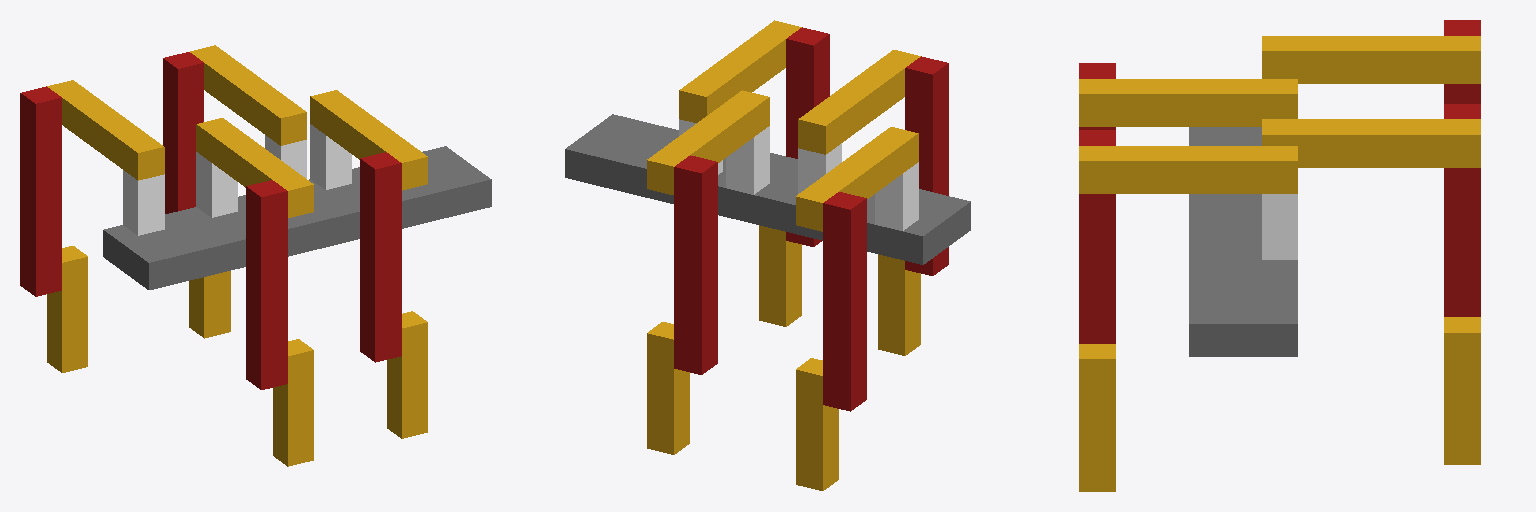
robot.urdf — v0:
<?xml version="1.0" encoding="utf-8"?>
<!-- =================================================================================== -->
<!-- |    This document was autogenerated by xacro from ../robots/v0variants/xacros/v0_4l_20.xacro | -->
<!-- |    EDITING THIS FILE BY HAND IS NOT RECOMMENDED                                 | -->
<!-- =================================================================================== -->
<robot name="v0">
  <material name="grey">
    <color rgba="0.5 0.5 0.5 1"/>
  </material>
  <material name="white">
    <color rgba="1 1 1 1"/>
  </material>
  <material name="yellow">
    <color rgba="0.91 0.7 0.14 1"/>
  </material>
  <material name="red">
    <color rgba="0.71 0.14 0.14 1"/>
  </material>
  <link name="body">
    <visual>
      <geometry>
        <box size="1.3 0.3 0.1"/>
      </geometry>
      <material name="grey"/>
      <origin rpy="0 0 0" xyz="0 0 0.7"/>
    </visual>
    <collision>
      <geometry>
        <box size="1.3 0.3 0.1"/>
      </geometry>
      <origin rpy="0 0 0" xyz="0 0 0.7"/>
    </collision>
    <inertial>
      <mass value="99.84"/>
      <inertia ixx="0.832" ixy="0.0" ixz="0.0" iyy="14.144" iyz="0.0" izz="14.8096"/>
    </inertial>
  </link>
  <link name="l1_segment_1">
    <visual>
      <geometry>
        <box size="0.1 0.1 0.2"/>
      </geometry>
      <material name="white"/>
      <origin rpy="0 0 0" xyz="0 0 0.1"/>
    </visual>
    <collision>
      <geometry>
        <box size="0.1 0.1 0.2"/>
      </geometry>
      <origin rpy="0 0 0" xyz="0 0 0.1"/>
    </collision>
    <inertial>
      <mass value="5.12"/>
      <inertia ixx="0.0213333333333" ixy="0.0" ixz="0.0" iyy="0.0213333333333" iyz="0.0" izz="0.00853333333333"/>
    </inertial>
  </link>
  <joint name="l1_base_to_joint_1" type="fixed">
    <parent link="body"/>
    <child link="l1_segment_1"/>
    <origin rpy="0 0 0" xyz="-0.5251355048699647 0.1 0.75"/>
  </joint>
  <link name="l1_segment_2_HIP">
    <visual>
      <geometry>
        <box size="0.1 0.6 0.1"/>
      </geometry>
      <material name="yellow"/>
      <origin rpy="0 0 0" xyz="0 0.25 0"/>
    </visual>
    <collision>
      <geometry>
        <box size="0.1 0.6 0.1"/>
      </geometry>
      <origin rpy="0 0 0" xyz="0 0.25 0"/>
    </collision>
    <inertial>
      <mass value="15.36"/>
      <inertia ixx="0.4736" ixy="0.0" ixz="0.0" iyy="0.0256" iyz="0.0" izz="0.4736"/>
    </inertial>
  </link>
  <joint name="l1_joint_1_to_2" type="revolute">
    <parent link="l1_segment_1"/>
    <child link="l1_segment_2_HIP"/>
    <origin rpy="0 0 0" xyz="0 0 0.25"/>
    <axis xyz="0.0 0.0 1.0"/>
    <limit effort="2048" lower="-1.2" upper="1.2" velocity="20"/>
  </joint>
  <link name="l1_segment_3_THIGH">
    <visual>
      <geometry>
        <box size="0.1 0.1 0.7"/>
      </geometry>
      <material name="red"/>
      <origin rpy="0 0 0" xyz="0 0 -0.3"/>
    </visual>
    <collision>
      <geometry>
        <box size="0.1 0.1 0.7"/>
      </geometry>
      <origin rpy="0 0 0" xyz="0 0 -0.3"/>
    </collision>
    <inertial>
      <mass value="17.92"/>
      <inertia ixx="0.746666666667" ixy="0.0" ixz="0.0" iyy="0.746666666667" iyz="0.0" izz="0.0298666666667"/>
    </inertial>
  </link>
  <joint name="l1_joint_2_to_3" type="revolute">
    <parent link="l1_segment_2_HIP"/>
    <child link="l1_segment_3_THIGH"/>
    <origin rpy="0 0 0" xyz="-0.1 0.5 0"/>
    <axis xyz="1.0 0.0 0.0"/>
    <limit effort="2048" lower="-0.2" upper="0.75" velocity="20"/>
  </joint>
  <link name="l1_segment_4_FOOT">
    <visual>
      <geometry>
        <box size="0.1 0.1 0.4"/>
      </geometry>
      <material name="yellow"/>
      <origin rpy="0 0 0" xyz="0 0 -0.2"/>
    </visual>
    <collision>
      <geometry>
        <box size="0.1 0.1 0.4"/>
      </geometry>
      <origin rpy="0 0 0" xyz="0 0 -0.2"/>
    </collision>
    <inertial>
      <mass value="10.24"/>
      <inertia ixx="0.145066666667" ixy="0.0" ixz="0.0" iyy="0.145066666667" iyz="0.0" izz="0.0170666666667"/>
    </inertial>
  </link>
  <joint name="l1_joint_3_to_4_FOOT" type="revolute">
    <parent link="l1_segment_3_THIGH"/>
    <child link="l1_segment_4_FOOT"/>
    <origin rpy="0 0 0" xyz="0.1 0 -0.55"/>
    <axis xyz="1.0 0.0 0.0"/>
    <limit effort="2048" lower="-0.2" upper="0.5" velocity="20"/>
  </joint>
  <link name="r2_segment_1">
    <visual>
      <geometry>
        <box size="0.1 0.1 0.2"/>
      </geometry>
      <material name="white"/>
      <origin rpy="0 0 0" xyz="0 0 0.1"/>
    </visual>
    <collision>
      <geometry>
        <box size="0.1 0.1 0.2"/>
      </geometry>
      <origin rpy="0 0 0" xyz="0 0 0.1"/>
    </collision>
    <inertial>
      <mass value="5.12"/>
      <inertia ixx="0.0213333333333" ixy="0.0" ixz="0.0" iyy="0.0213333333333" iyz="0.0" izz="0.00853333333333"/>
    </inertial>
  </link>
  <joint name="r2_base_to_joint_1" type="fixed">
    <parent link="body"/>
    <child link="r2_segment_1"/>
    <origin rpy="0 0 0" xyz="-0.24617366687046574 0.1 0.75"/>
  </joint>
  <link name="r2_segment_2_HIP">
    <visual>
      <geometry>
        <box size="0.1 0.6 0.1"/>
      </geometry>
      <material name="yellow"/>
      <origin rpy="0 0 0" xyz="0 -0.25 0"/>
    </visual>
    <collision>
      <geometry>
        <box size="0.1 0.6 0.1"/>
      </geometry>
      <origin rpy="0 0 0" xyz="0 -0.25 0"/>
    </collision>
    <inertial>
      <mass value="15.36"/>
      <inertia ixx="0.4736" ixy="0.0" ixz="0.0" iyy="0.0256" iyz="0.0" izz="0.4736"/>
    </inertial>
  </link>
  <joint name="r2_joint_1_to_2" type="revolute">
    <parent link="r2_segment_1"/>
    <child link="r2_segment_2_HIP"/>
    <origin rpy="0 0 0" xyz="0 0 0.25"/>
    <axis xyz="0.0 0.0 1.0"/>
    <limit effort="2048" lower="-1.2" upper="1.2" velocity="20"/>
  </joint>
  <link name="r2_segment_3_THIGH">
    <visual>
      <geometry>
        <box size="0.1 0.1 0.7"/>
      </geometry>
      <material name="red"/>
      <origin rpy="0 0 0" xyz="0 0 -0.3"/>
    </visual>
    <collision>
      <geometry>
        <box size="0.1 0.1 0.7"/>
      </geometry>
      <origin rpy="0 0 0" xyz="0 0 -0.3"/>
    </collision>
    <inertial>
      <mass value="17.92"/>
      <inertia ixx="0.746666666667" ixy="0.0" ixz="0.0" iyy="0.746666666667" iyz="0.0" izz="0.0298666666667"/>
    </inertial>
  </link>
  <joint name="r2_joint_2_to_3" type="revolute">
    <parent link="r2_segment_2_HIP"/>
    <child link="r2_segment_3_THIGH"/>
    <origin rpy="0 0 0" xyz="-0.1 -0.5 0"/>
    <axis xyz="1.0 0.0 0.0"/>
    <limit effort="2048" lower="-0.75" upper="0.2" velocity="20"/>
  </joint>
  <link name="r2_segment_4_FOOT">
    <visual>
      <geometry>
        <box size="0.1 0.1 0.4"/>
      </geometry>
      <material name="yellow"/>
      <origin rpy="0 0 0" xyz="0 0 -0.2"/>
    </visual>
    <collision>
      <geometry>
        <box size="0.1 0.1 0.4"/>
      </geometry>
      <origin rpy="0 0 0" xyz="0 0 -0.2"/>
    </collision>
    <inertial>
      <mass value="10.24"/>
      <inertia ixx="0.145066666667" ixy="0.0" ixz="0.0" iyy="0.145066666667" iyz="0.0" izz="0.0170666666667"/>
    </inertial>
  </link>
  <joint name="r2_joint_3_to_4_FOOT" type="revolute">
    <parent link="r2_segment_3_THIGH"/>
    <child link="r2_segment_4_FOOT"/>
    <origin rpy="0 0 0" xyz="0.1 0 -0.55"/>
    <axis xyz="1.0 0.0 0.0"/>
    <limit effort="2048" lower="-0.5" upper="0.2" velocity="20"/>
  </joint>
  <link name="l3_segment_1">
    <visual>
      <geometry>
        <box size="0.1 0.1 0.2"/>
      </geometry>
      <material name="white"/>
      <origin rpy="0 0 0" xyz="0 0 0.1"/>
    </visual>
    <collision>
      <geometry>
        <box size="0.1 0.1 0.2"/>
      </geometry>
      <origin rpy="0 0 0" xyz="0 0 0.1"/>
    </collision>
    <inertial>
      <mass value="5.12"/>
      <inertia ixx="0.0213333333333" ixy="0.0" ixz="0.0" iyy="0.0213333333333" iyz="0.0" izz="0.00853333333333"/>
    </inertial>
  </link>
  <joint name="l3_base_to_joint_1" type="fixed">
    <parent link="body"/>
    <child link="l3_segment_1"/>
    <origin rpy="0 0 0" xyz="0.015030651274069662 0.1 0.75"/>
  </joint>
  <link name="l3_segment_2_HIP">
    <visual>
      <geometry>
        <box size="0.1 0.6 0.1"/>
      </geometry>
      <material name="yellow"/>
      <origin rpy="0 0 0" xyz="0 0.25 0"/>
    </visual>
    <collision>
      <geometry>
        <box size="0.1 0.6 0.1"/>
      </geometry>
      <origin rpy="0 0 0" xyz="0 0.25 0"/>
    </collision>
    <inertial>
      <mass value="15.36"/>
      <inertia ixx="0.4736" ixy="0.0" ixz="0.0" iyy="0.0256" iyz="0.0" izz="0.4736"/>
    </inertial>
  </link>
  <joint name="l3_joint_1_to_2" type="revolute">
    <parent link="l3_segment_1"/>
    <child link="l3_segment_2_HIP"/>
    <origin rpy="0 0 0" xyz="0 0 0.25"/>
    <axis xyz="0.0 0.0 1.0"/>
    <limit effort="2048" lower="-1.2" upper="1.2" velocity="20"/>
  </joint>
  <link name="l3_segment_3_THIGH">
    <visual>
      <geometry>
        <box size="0.1 0.1 0.7"/>
      </geometry>
      <material name="red"/>
      <origin rpy="0 0 0" xyz="0 0 -0.3"/>
    </visual>
    <collision>
      <geometry>
        <box size="0.1 0.1 0.7"/>
      </geometry>
      <origin rpy="0 0 0" xyz="0 0 -0.3"/>
    </collision>
    <inertial>
      <mass value="17.92"/>
      <inertia ixx="0.746666666667" ixy="0.0" ixz="0.0" iyy="0.746666666667" iyz="0.0" izz="0.0298666666667"/>
    </inertial>
  </link>
  <joint name="l3_joint_2_to_3" type="revolute">
    <parent link="l3_segment_2_HIP"/>
    <child link="l3_segment_3_THIGH"/>
    <origin rpy="0 0 0" xyz="-0.1 0.5 0"/>
    <axis xyz="1.0 0.0 0.0"/>
    <limit effort="2048" lower="-0.2" upper="0.75" velocity="20"/>
  </joint>
  <link name="l3_segment_4_FOOT">
    <visual>
      <geometry>
        <box size="0.1 0.1 0.4"/>
      </geometry>
      <material name="yellow"/>
      <origin rpy="0 0 0" xyz="0 0 -0.2"/>
    </visual>
    <collision>
      <geometry>
        <box size="0.1 0.1 0.4"/>
      </geometry>
      <origin rpy="0 0 0" xyz="0 0 -0.2"/>
    </collision>
    <inertial>
      <mass value="10.24"/>
      <inertia ixx="0.145066666667" ixy="0.0" ixz="0.0" iyy="0.145066666667" iyz="0.0" izz="0.0170666666667"/>
    </inertial>
  </link>
  <joint name="l3_joint_3_to_4_FOOT" type="revolute">
    <parent link="l3_segment_3_THIGH"/>
    <child link="l3_segment_4_FOOT"/>
    <origin rpy="0 0 0" xyz="0.1 0 -0.55"/>
    <axis xyz="1.0 0.0 0.0"/>
    <limit effort="2048" lower="-0.2" upper="0.5" velocity="20"/>
  </joint>
  <link name="r4_segment_1">
    <visual>
      <geometry>
        <box size="0.1 0.1 0.2"/>
      </geometry>
      <material name="white"/>
      <origin rpy="0 0 0" xyz="0 0 0.1"/>
    </visual>
    <collision>
      <geometry>
        <box size="0.1 0.1 0.2"/>
      </geometry>
      <origin rpy="0 0 0" xyz="0 0 0.1"/>
    </collision>
    <inertial>
      <mass value="5.12"/>
      <inertia ixx="0.0213333333333" ixy="0.0" ixz="0.0" iyy="0.0213333333333" iyz="0.0" izz="0.00853333333333"/>
    </inertial>
  </link>
  <joint name="r4_base_to_joint_1" type="fixed">
    <parent link="body"/>
    <child link="r4_segment_1"/>
    <origin rpy="0 0 0" xyz="0.18615929074399076 0.1 0.75"/>
  </joint>
  <link name="r4_segment_2_HIP">
    <visual>
      <geometry>
        <box size="0.1 0.6 0.1"/>
      </geometry>
      <material name="yellow"/>
      <origin rpy="0 0 0" xyz="0 -0.25 0"/>
    </visual>
    <collision>
      <geometry>
        <box size="0.1 0.6 0.1"/>
      </geometry>
      <origin rpy="0 0 0" xyz="0 -0.25 0"/>
    </collision>
    <inertial>
      <mass value="15.36"/>
      <inertia ixx="0.4736" ixy="0.0" ixz="0.0" iyy="0.0256" iyz="0.0" izz="0.4736"/>
    </inertial>
  </link>
  <joint name="r4_joint_1_to_2" type="revolute">
    <parent link="r4_segment_1"/>
    <child link="r4_segment_2_HIP"/>
    <origin rpy="0 0 0" xyz="0 0 0.25"/>
    <axis xyz="0.0 0.0 1.0"/>
    <limit effort="2048" lower="-1.2" upper="1.2" velocity="20"/>
  </joint>
  <link name="r4_segment_3_THIGH">
    <visual>
      <geometry>
        <box size="0.1 0.1 0.7"/>
      </geometry>
      <material name="red"/>
      <origin rpy="0 0 0" xyz="0 0 -0.3"/>
    </visual>
    <collision>
      <geometry>
        <box size="0.1 0.1 0.7"/>
      </geometry>
      <origin rpy="0 0 0" xyz="0 0 -0.3"/>
    </collision>
    <inertial>
      <mass value="17.92"/>
      <inertia ixx="0.746666666667" ixy="0.0" ixz="0.0" iyy="0.746666666667" iyz="0.0" izz="0.0298666666667"/>
    </inertial>
  </link>
  <joint name="r4_joint_2_to_3" type="revolute">
    <parent link="r4_segment_2_HIP"/>
    <child link="r4_segment_3_THIGH"/>
    <origin rpy="0 0 0" xyz="-0.1 -0.5 0"/>
    <axis xyz="1.0 0.0 0.0"/>
    <limit effort="2048" lower="-0.75" upper="0.2" velocity="20"/>
  </joint>
  <link name="r4_segment_4_FOOT">
    <visual>
      <geometry>
        <box size="0.1 0.1 0.4"/>
      </geometry>
      <material name="yellow"/>
      <origin rpy="0 0 0" xyz="0 0 -0.2"/>
    </visual>
    <collision>
      <geometry>
        <box size="0.1 0.1 0.4"/>
      </geometry>
      <origin rpy="0 0 0" xyz="0 0 -0.2"/>
    </collision>
    <inertial>
      <mass value="10.24"/>
      <inertia ixx="0.145066666667" ixy="0.0" ixz="0.0" iyy="0.145066666667" iyz="0.0" izz="0.0170666666667"/>
    </inertial>
  </link>
  <joint name="r4_joint_3_to_4_FOOT" type="revolute">
    <parent link="r4_segment_3_THIGH"/>
    <child link="r4_segment_4_FOOT"/>
    <origin rpy="0 0 0" xyz="0.1 0 -0.55"/>
    <axis xyz="1.0 0.0 0.0"/>
    <limit effort="2048" lower="-0.5" upper="0.2" velocity="20"/>
  </joint>
</robot>

--- Render facts (derived) ---
The picture shows the robot from 3 angles, left to right: view 1: azimuth 30°, elevation 25°; view 2: azimuth 150°, elevation 25°; view 3: azimuth 270°, elevation 25°; orthographic projection.
Model v0 with 17 links and 16 joints (12 revolute, 4 fixed), rooted at body, posed every joint at zero.
Links seen in each view (by area): view 1: body, r4_segment_3_THIGH, r2_segment_3_THIGH, l1_segment_3_THIGH, l3_segment_3_THIGH, l1_segment_2_HIP, l3_segment_2_HIP, r2_segment_2_HIP, r4_segment_2_HIP, l1_segment_4_FOOT, r2_segment_4_FOOT, r4_segment_4_FOOT (+5 smaller); view 2: body, l1_segment_3_THIGH, l3_segment_3_THIGH, r2_segment_2_HIP, r2_segment_3_THIGH, l1_segment_2_HIP, l3_segment_2_HIP, r4_segment_2_HIP, l3_segment_4_FOOT, l1_segment_4_FOOT, r4_segment_3_THIGH, r2_segment_4_FOOT (+4 smaller); view 3: body, r4_segment_2_HIP, l1_segment_2_HIP, r2_segment_2_HIP, l3_segment_2_HIP, r4_segment_3_THIGH, l3_segment_3_THIGH, l3_segment_4_FOOT, r4_segment_4_FOOT, r4_segment_1, l1_segment_3_THIGH, r2_segment_3_THIGH.
Boxes of the visible links, box(x1,y1,x2,y2) form: body: box(103, 146, 491, 289); r4_segment_3_THIGH: box(360, 152, 401, 362); r2_segment_3_THIGH: box(246, 180, 287, 389); l1_segment_3_THIGH: box(20, 86, 61, 296); l3_segment_3_THIGH: box(163, 52, 203, 213); l1_segment_2_HIP: box(47, 80, 164, 180); l3_segment_2_HIP: box(190, 45, 306, 145); r2_segment_2_HIP: box(196, 118, 313, 217); r4_segment_2_HIP: box(310, 90, 427, 190); l1_segment_4_FOOT: box(47, 246, 87, 372); r2_segment_4_FOOT: box(273, 339, 313, 466); r4_segment_4_FOOT: box(387, 311, 427, 438); body: box(565, 114, 970, 264); l1_segment_3_THIGH: box(823, 192, 866, 411); l3_segment_3_THIGH: box(674, 155, 717, 374); r2_segment_2_HIP: box(798, 50, 920, 154); r2_segment_3_THIGH: box(905, 56, 948, 275); l1_segment_2_HIP: box(796, 127, 918, 231); l3_segment_2_HIP: box(647, 90, 769, 194); r4_segment_2_HIP: box(679, 20, 801, 122); l3_segment_4_FOOT: box(647, 322, 689, 454); l1_segment_4_FOOT: box(796, 358, 838, 490); r4_segment_3_THIGH: box(786, 27, 829, 246); r2_segment_4_FOOT: box(878, 254, 920, 355); body: box(1189, 127, 1297, 356); r4_segment_2_HIP: box(1079, 146, 1297, 193); l1_segment_2_HIP: box(1262, 36, 1480, 83); r2_segment_2_HIP: box(1079, 79, 1297, 126); l3_segment_2_HIP: box(1262, 119, 1480, 167); r4_segment_3_THIGH: box(1079, 130, 1115, 343); l3_segment_3_THIGH: box(1444, 104, 1480, 316); l3_segment_4_FOOT: box(1444, 317, 1480, 464); r4_segment_4_FOOT: box(1079, 344, 1115, 491); r4_segment_1: box(1262, 194, 1297, 259); l1_segment_3_THIGH: box(1444, 20, 1480, 103); r2_segment_3_THIGH: box(1079, 63, 1115, 129).
Size in the robot's own frame: 1.33 by 1.1 by 1 metres.
Geometry: primitives only (box / cylinder / sphere), no mesh files.